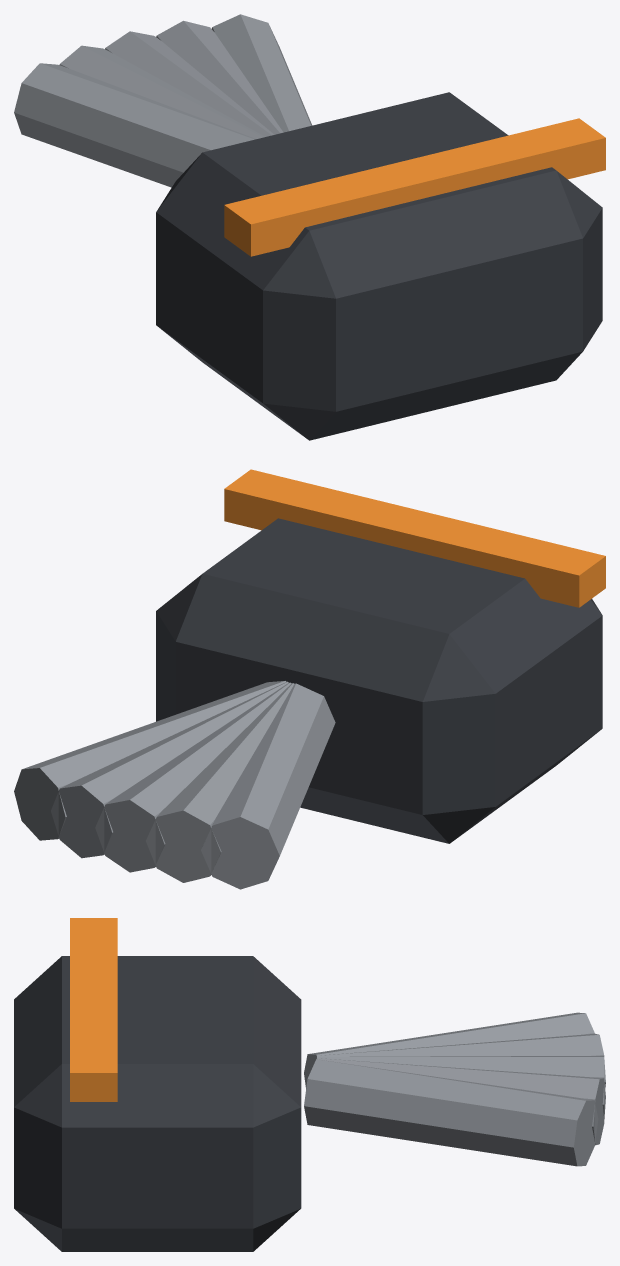
Rendered from flak_cannon.glb.
3 views of the same model, one above another, from view 1: azimuth 30°, elevation 25°; view 2: azimuth 150°, elevation 25°; view 3: azimuth 270°, elevation 25° (orthographic). The views are drawn at different scales.
Visible parts, largest first — view 1: flak_cannon; view 2: flak_cannon; view 3: flak_cannon.
Boxes of the visible parts, x1,y1,x2,y2 form: flak_cannon: (14, 14, 605, 440); flak_cannon: (14, 469, 605, 889); flak_cannon: (14, 918, 605, 1251).
Size of the model in its own units: 0.46 by 0.28 by 0.742.
